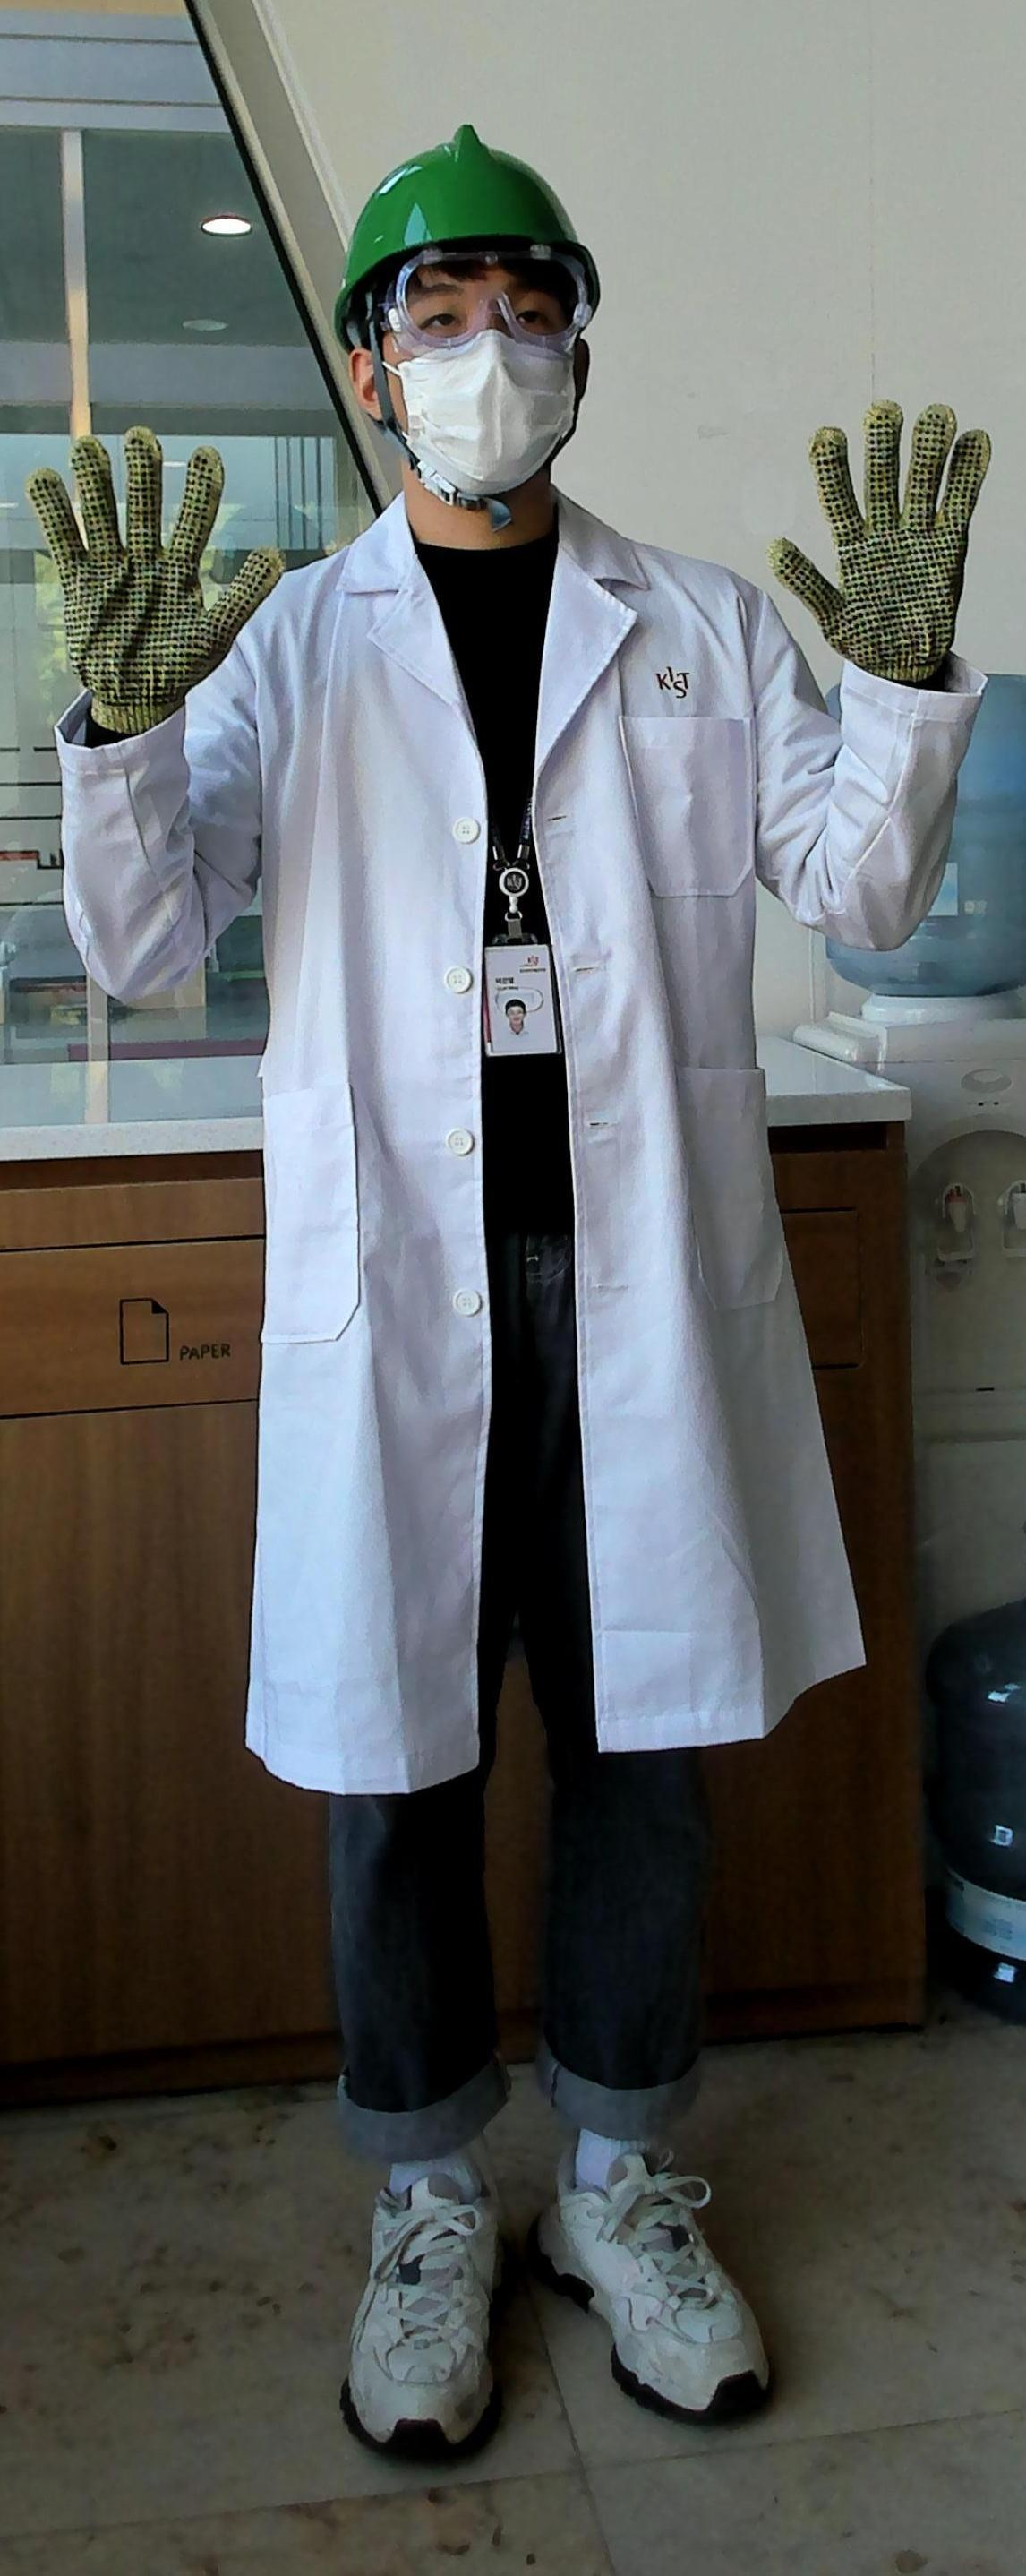lab_coat: (251, 552, 814, 1720)
